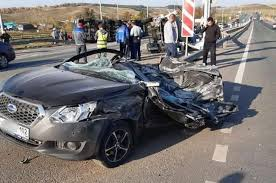car: (15, 44, 221, 162)
